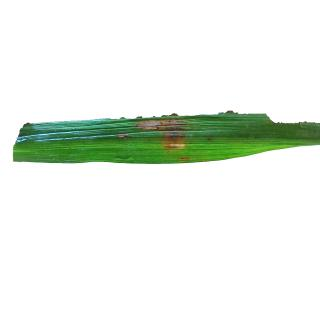Hawar-Daun: (137, 118, 193, 148), (162, 115, 186, 151), (138, 116, 160, 136), (120, 130, 131, 141)
